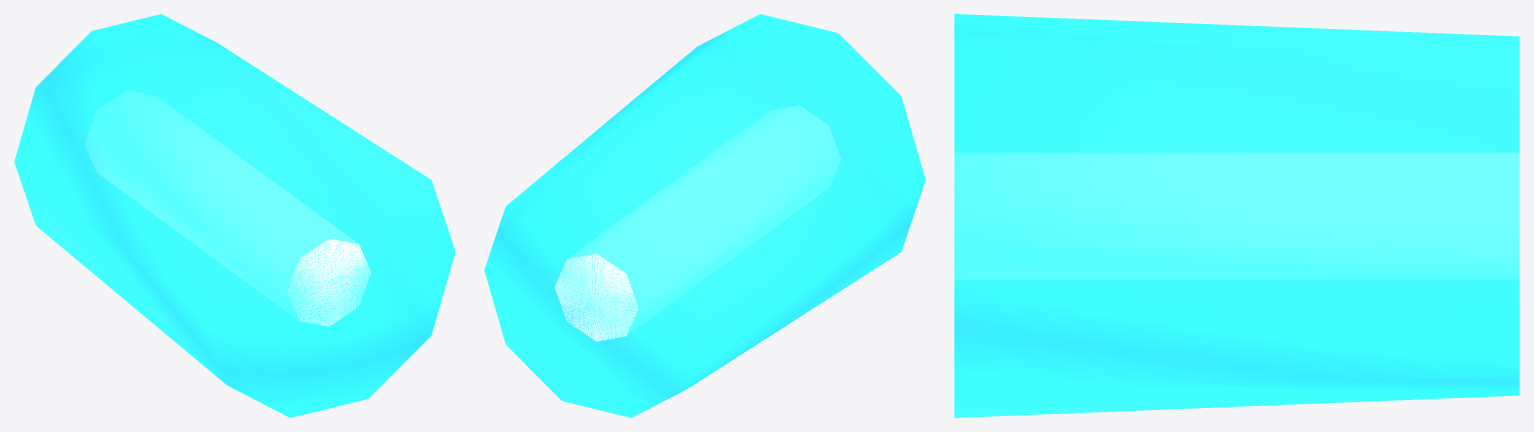
Rendered from fx_tower_f.glb.
3 views of the same model, side by side, from view 1: azimuth 30°, elevation 25°; view 2: azimuth 150°, elevation 25°; view 3: azimuth 270°, elevation 25° (orthographic). The views are drawn at different scales.
Visible parts, largest first — view 1: fx_tower_f; view 2: fx_tower_f; view 3: fx_tower_f.
Boxes of the visible parts, x1,y1,x2,y2 form: fx_tower_f: (14,14,455,417); fx_tower_f: (484,14,925,417); fx_tower_f: (954,14,1519,417).
Size of the model in its own units: 0.72 by 0.6848 by 1.
